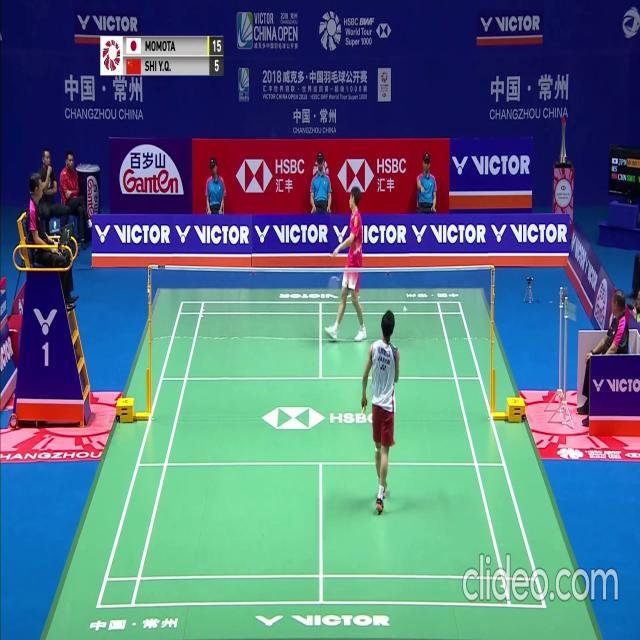Shuttlecock: (403, 305, 407, 312)
